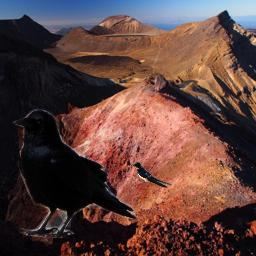Crow: (11, 108, 141, 238)
Swallow: (130, 161, 172, 188)
